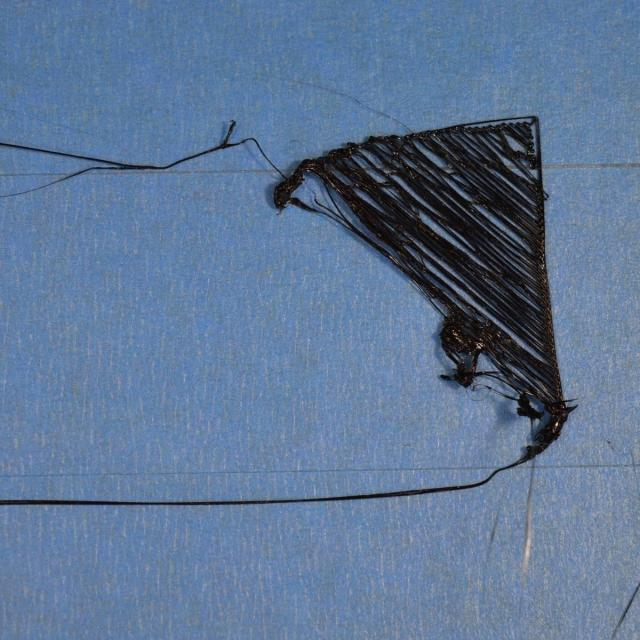Spaghetti: (289, 92, 577, 436)
